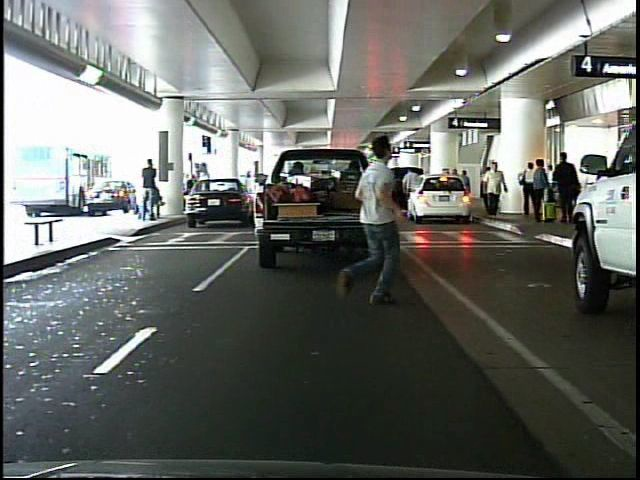person: (328, 121, 413, 322), (553, 149, 581, 227), (480, 157, 510, 227), (517, 156, 540, 221), (143, 159, 165, 221), (533, 158, 553, 225)
